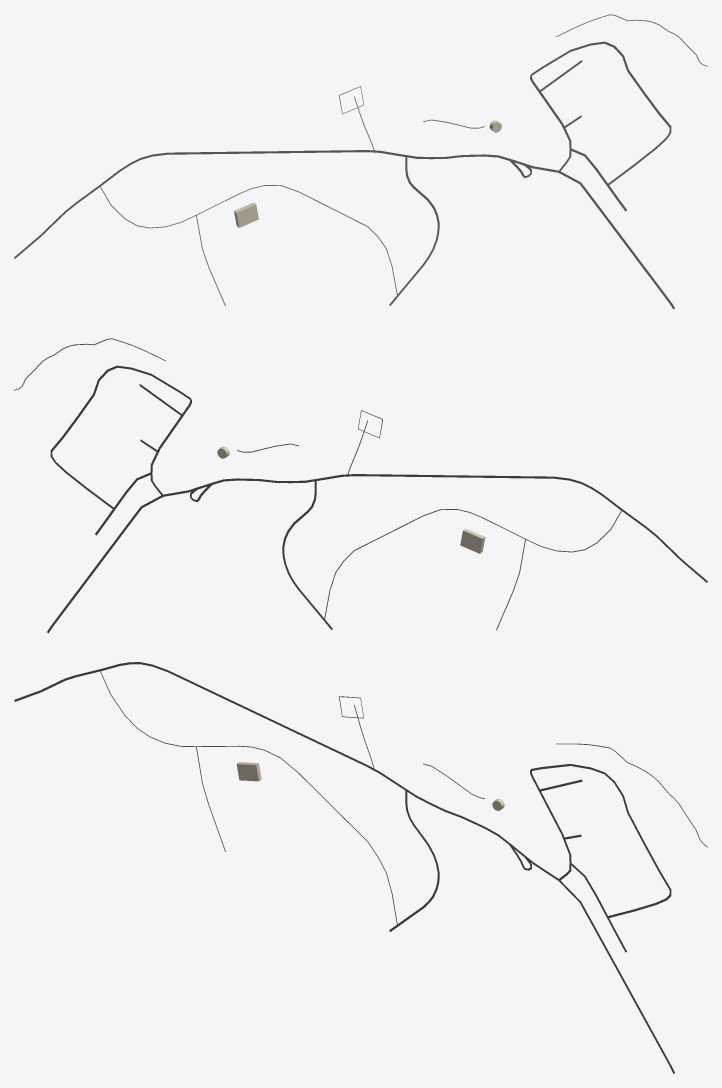
Rendered from historic-palestine-12_26_3539_3207.glb.
The picture shows the model from 3 angles, top to bottom: view 1: azimuth 30°, elevation 25°; view 2: azimuth 150°, elevation 25°; view 3: azimuth 330°, elevation 25°; orthographic projection.
Parts seen in each view (by area): view 1: Road, Road .004, Road .002; view 2: Road, Road .004, Road .002; view 3: Road, Road .004.
Boxes of the visible parts, <box> form: Road: <box>14,150,674,309</box>; Road .004: <box>531,41,671,185</box>; Road .002: <box>100,185,397,294</box>; Road: <box>47,474,707,633</box>; Road .004: <box>50,365,190,509</box>; Road .002: <box>324,509,621,618</box>; Road: <box>14,662,674,1073</box>; Road .004: <box>531,764,671,918</box>.
Size of the model in its own units: 1104 by 473 by 8.7.
